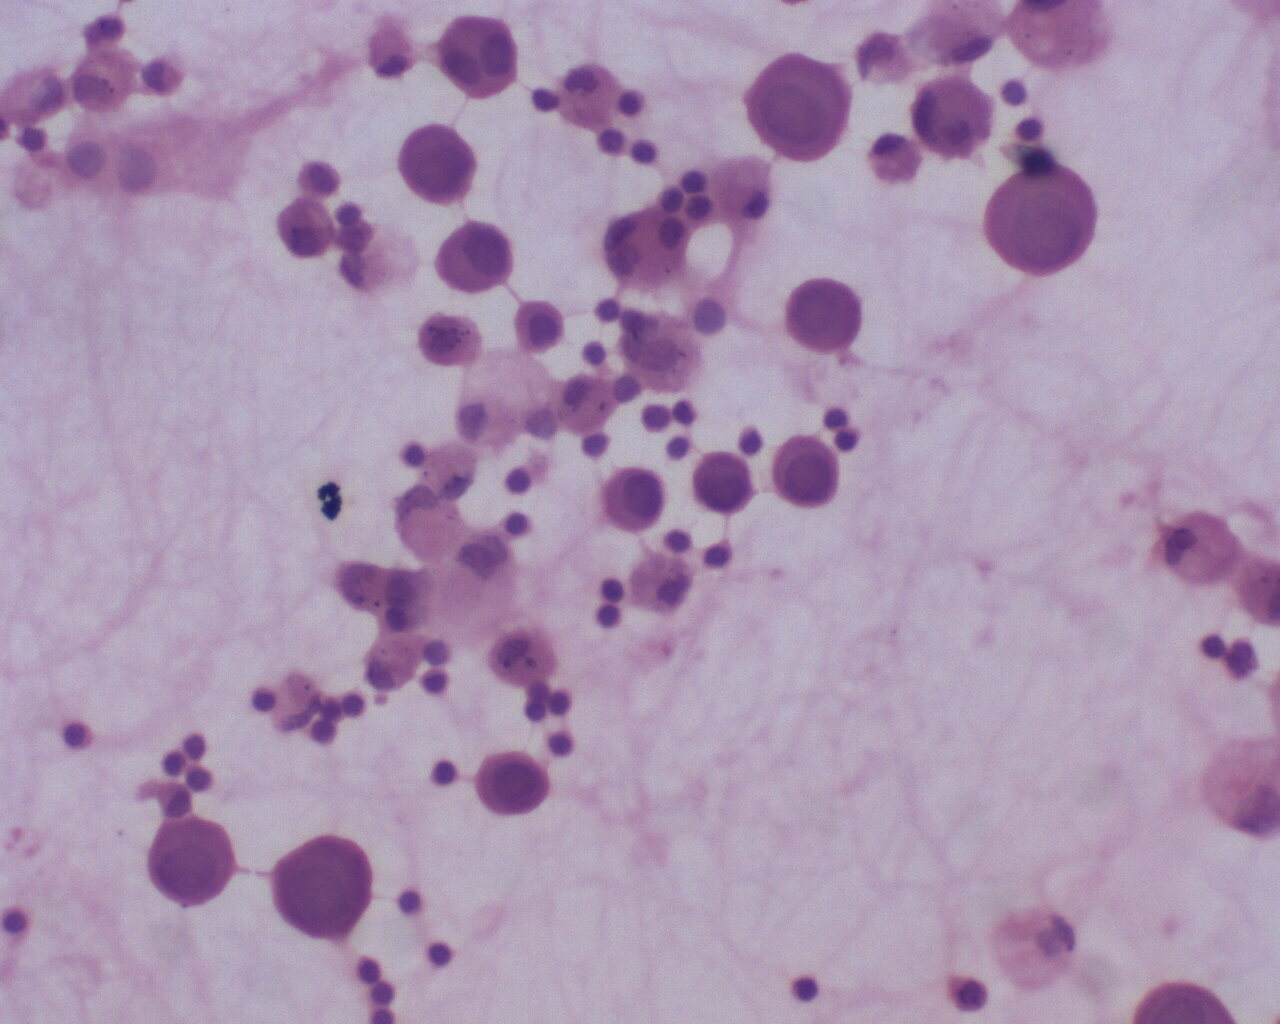ab: (979, 156, 1107, 283), (744, 51, 852, 167), (264, 830, 376, 940), (145, 820, 245, 908), (432, 13, 523, 102), (433, 218, 523, 304), (396, 121, 484, 209), (784, 273, 868, 362), (768, 430, 846, 514), (688, 442, 762, 518), (475, 749, 556, 819), (595, 461, 666, 533)
lymph: (629, 135, 668, 171), (245, 684, 284, 718), (790, 970, 824, 1006), (499, 510, 535, 541)
meso: (506, 295, 568, 357)
